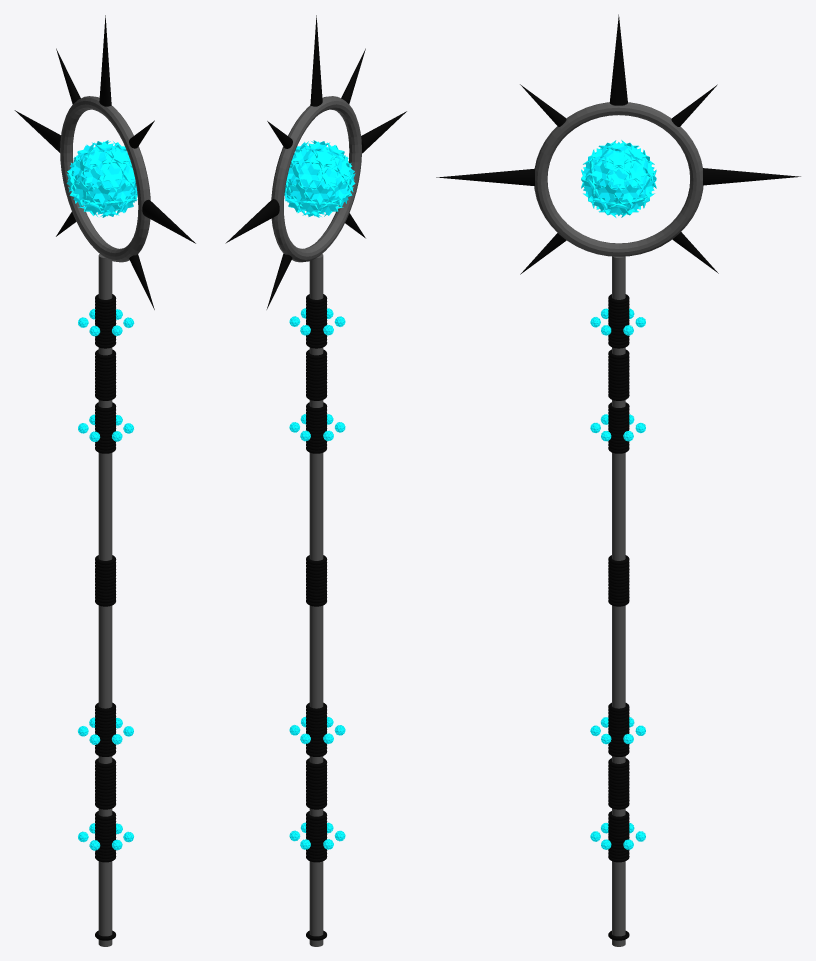
Rendered from wizardStaff.fbx.
The picture shows the model from 3 angles, left to right: view 1: azimuth 30°, elevation 25°; view 2: azimuth 150°, elevation 25°; view 3: azimuth 270°, elevation 25°; orthographic projection.
Parts seen in each view (by area): view 1: Cylinder, Torus.101, Icosphere, Cone, Cone.001, Cone.002; view 2: Cylinder, Torus.101, Icosphere, Cone, Cone.002, Cone.001; view 3: Torus.101, Cylinder, Icosphere, Cone.002, Cone.001, Cone.
Boxes of the visible parts, x1,y1,x2,y2 form: Cylinder: [98, 254, 112, 946]; Torus.101: [60, 96, 150, 262]; Icosphere: [66, 140, 137, 217]; Cone: [99, 15, 111, 106]; Cone.001: [142, 199, 195, 243]; Cone.002: [14, 110, 60, 152]; Cylinder: [309, 254, 323, 946]; Torus.101: [271, 96, 361, 262]; Icosphere: [284, 140, 355, 217]; Cone: [310, 15, 322, 106]; Cone.002: [225, 199, 279, 243]; Cone.001: [361, 111, 406, 153]; Torus.101: [534, 102, 703, 256]; Cylinder: [612, 256, 625, 946]; Icosphere: [581, 140, 656, 217]; Cone.002: [703, 168, 800, 185]; Cone.001: [436, 168, 534, 186]; Cone: [609, 14, 627, 105].
Size of the model in its own units: 115 by 1510 by 538.
